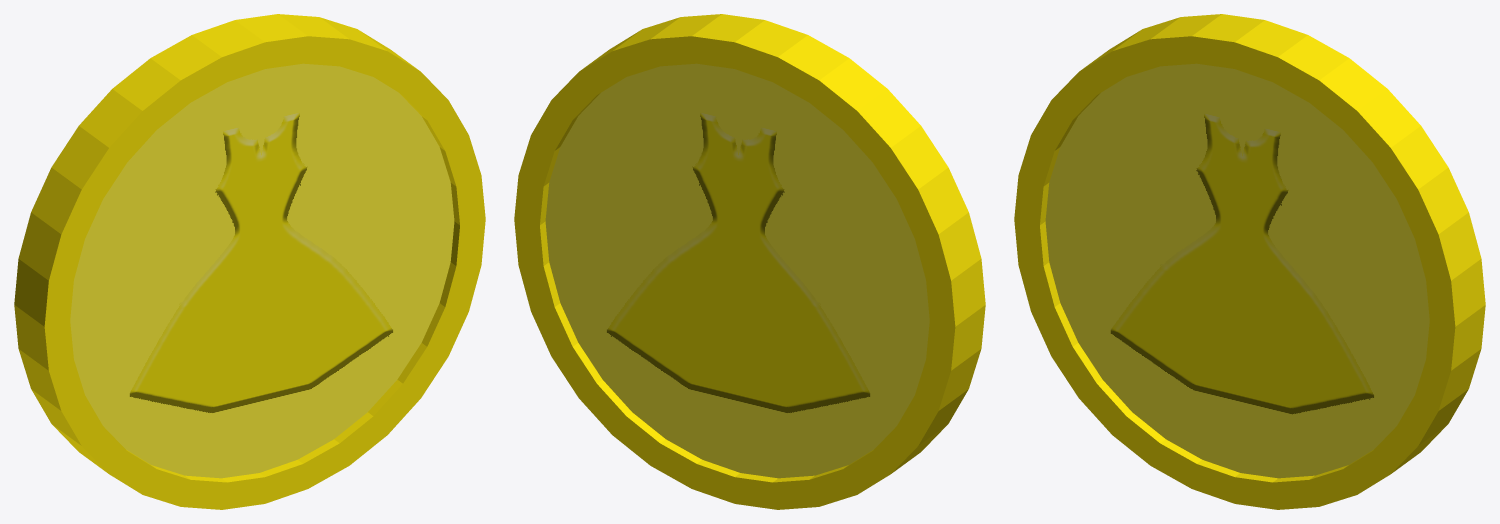
File: draw.coin 1.fbx
3 renders of one model, left to right at view 1: azimuth 30°, elevation 25°; view 2: azimuth 150°, elevation 25°; view 3: azimuth 330°, elevation 25°, orthographic.
Visible parts, largest first — view 1: Cylinder; view 2: Cylinder; view 3: Cylinder.
Part boxes in pixels (x1=…): Cylinder: x1=14, y1=14, x2=485, y2=509; Cylinder: x1=514, y1=14, x2=985, y2=509; Cylinder: x1=1014, y1=14, x2=1485, y2=509.
Bounding box in the file's own units: 200 × 200 × 23.85.
